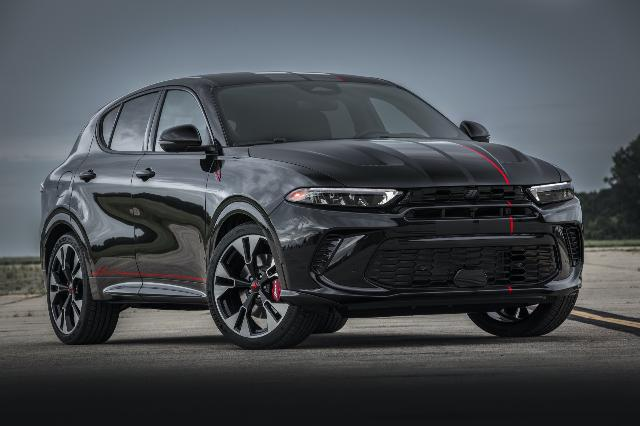dodge: (38, 68, 584, 349)
